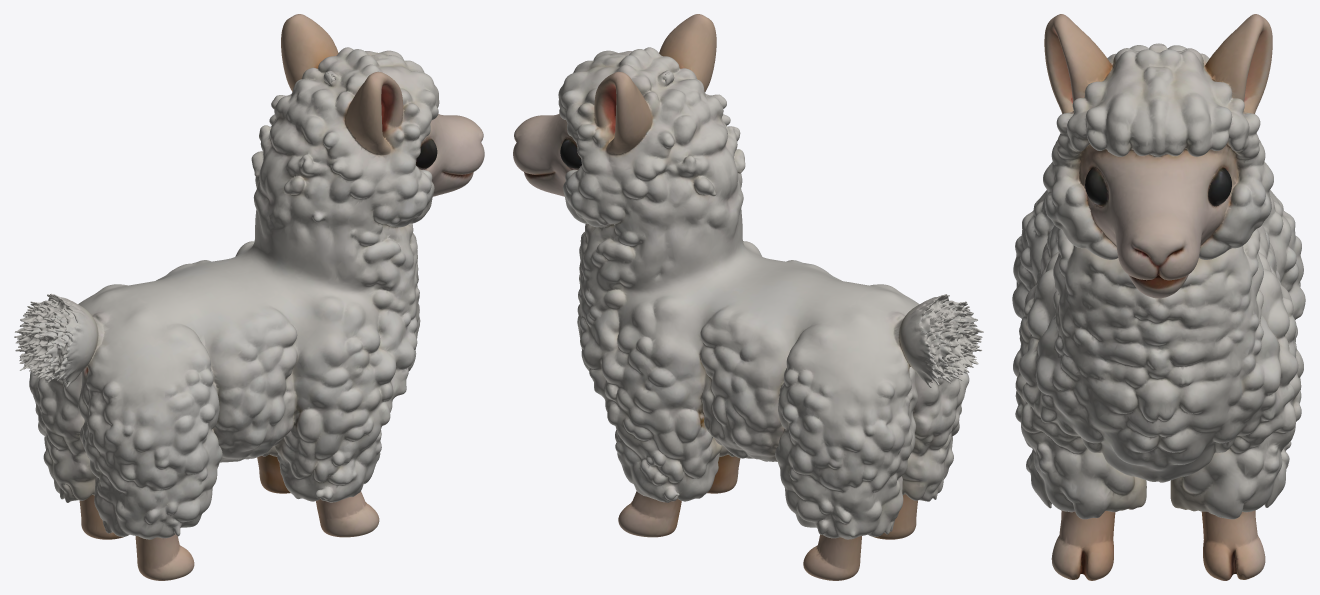
File: alpaca-mini.glb
3 views of the same model, side by side, from view 1: azimuth 30°, elevation 25°; view 2: azimuth 150°, elevation 25°; view 3: azimuth 270°, elevation 25° (orthographic). The views are drawn at different scales.
Visible parts, largest first — view 1: tripo_node_d3317f73-6798-4ca8-a1c8-7ae865c0a021; view 2: tripo_node_d3317f73-6798-4ca8-a1c8-7ae865c0a021; view 3: tripo_node_d3317f73-6798-4ca8-a1c8-7ae865c0a021.
Boxes of the visible parts, x1,y1,x2,y2 form: tripo_node_d3317f73-6798-4ca8-a1c8-7ae865c0a021: (14,14,484,580); tripo_node_d3317f73-6798-4ca8-a1c8-7ae865c0a021: (513,14,983,580); tripo_node_d3317f73-6798-4ca8-a1c8-7ae865c0a021: (1012,14,1305,580).
Size of the model in its own units: 1 by 0.9661 by 0.4538.
1 material, 1 textured.
